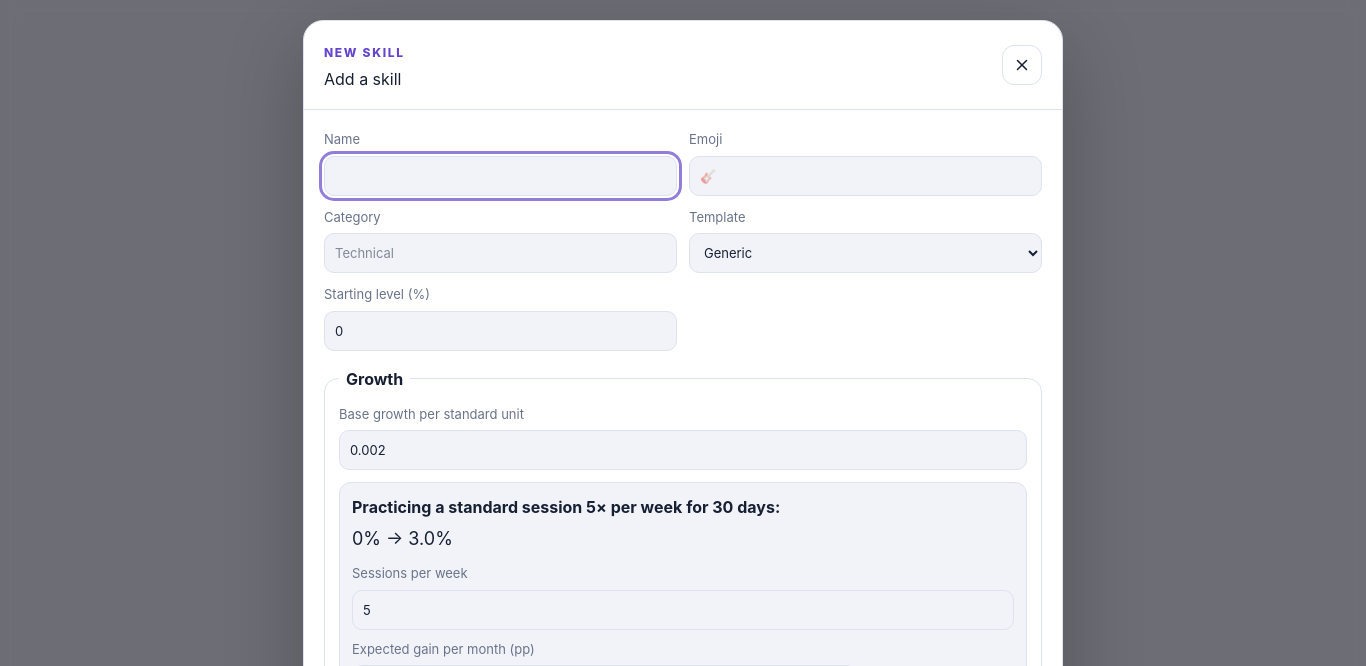
Test: SkillFormModal › requires a season goal when season mode is enabled
This screenshot has width=1366, height=666.
In the field labelled "Name": (500,176) 324,156 -> 677,196, type "Interview"
(page scrolled)
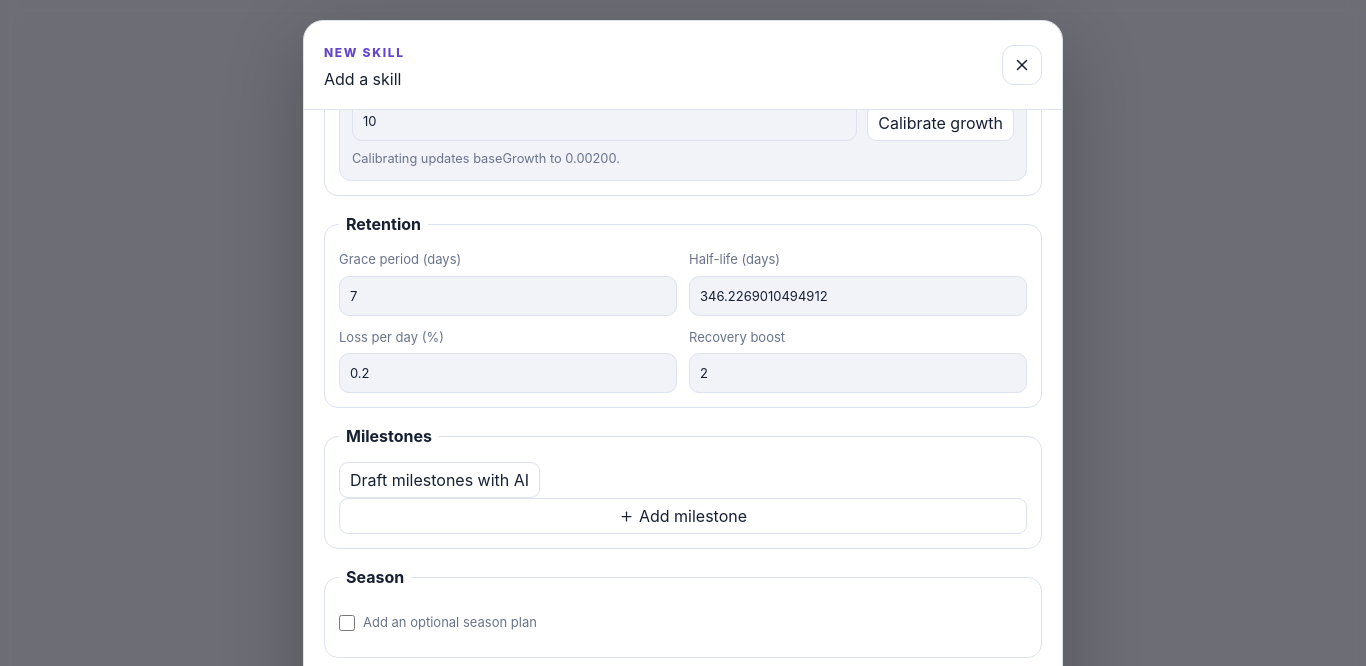
Click the checkbox labelled "Add an optional season plan": (347,623) 339,603 -> 355,643
(page scrolled)
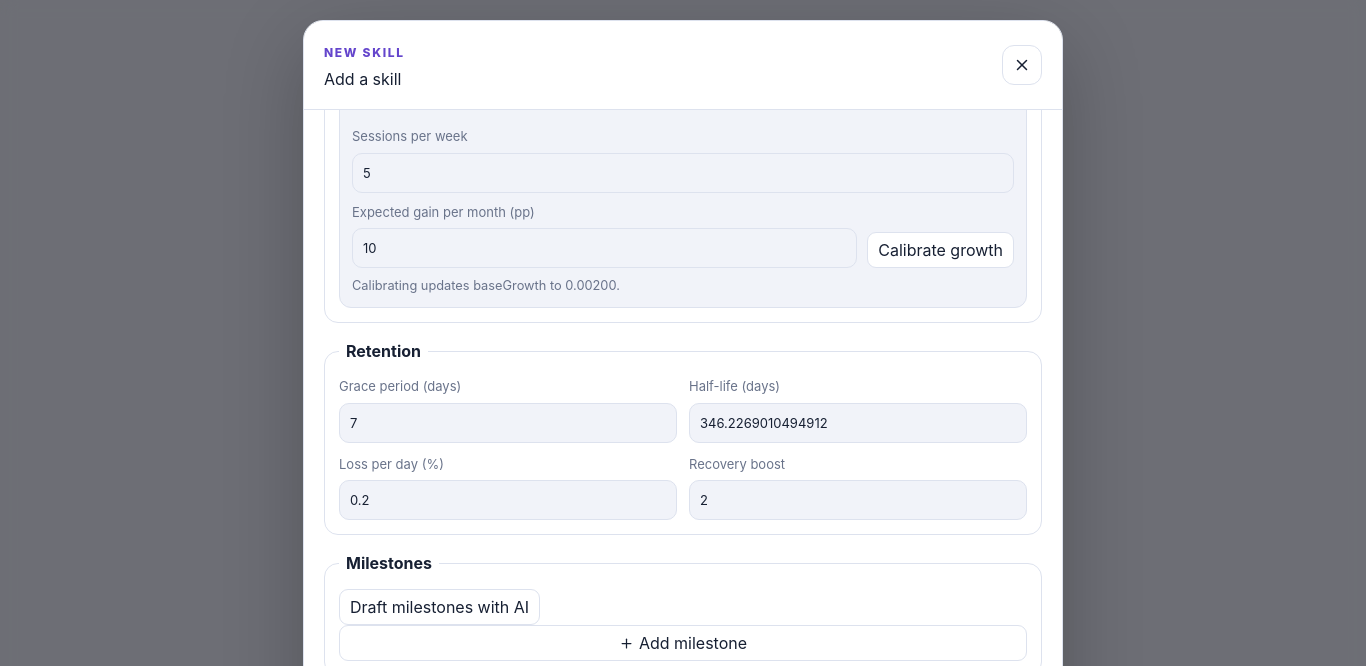
Submit the form
(page scrolled)
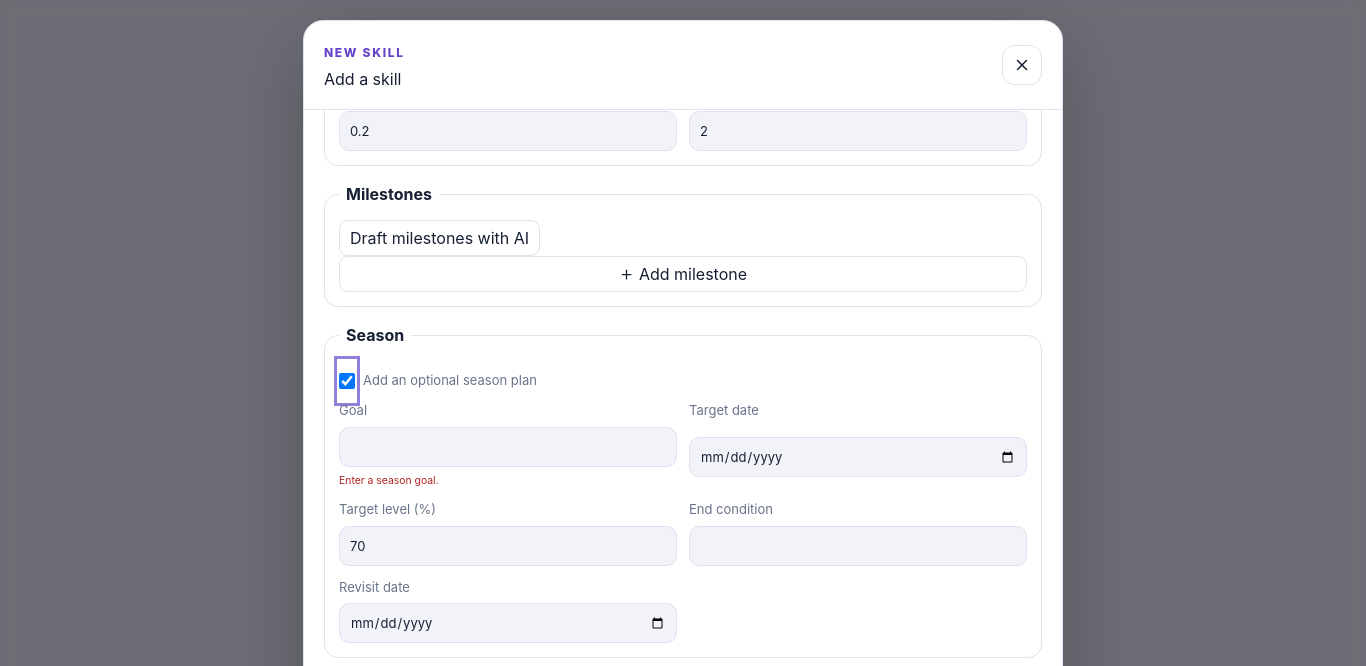
Expected: the text "Enter a season goal." is shown, 339,474 -> 439,487
